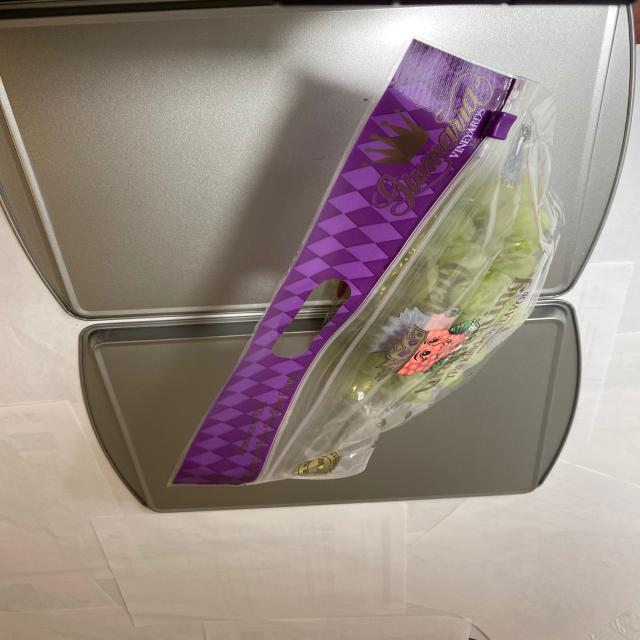grapes: (337, 167, 562, 432)
